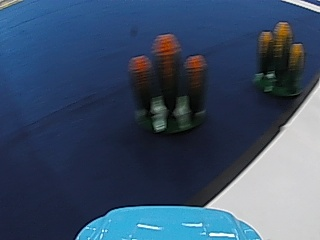corn: (128, 31, 204, 136), (253, 19, 307, 101)
